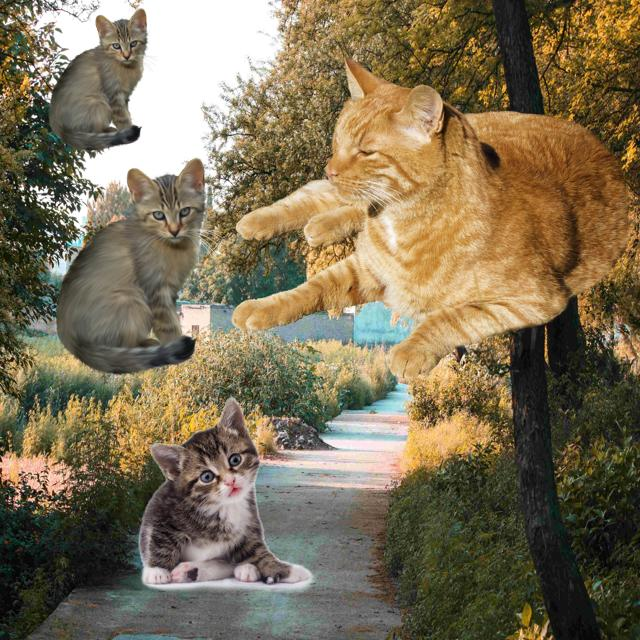cat: (228, 52, 634, 382), (137, 394, 320, 597), (52, 158, 220, 376), (47, 9, 156, 151)
